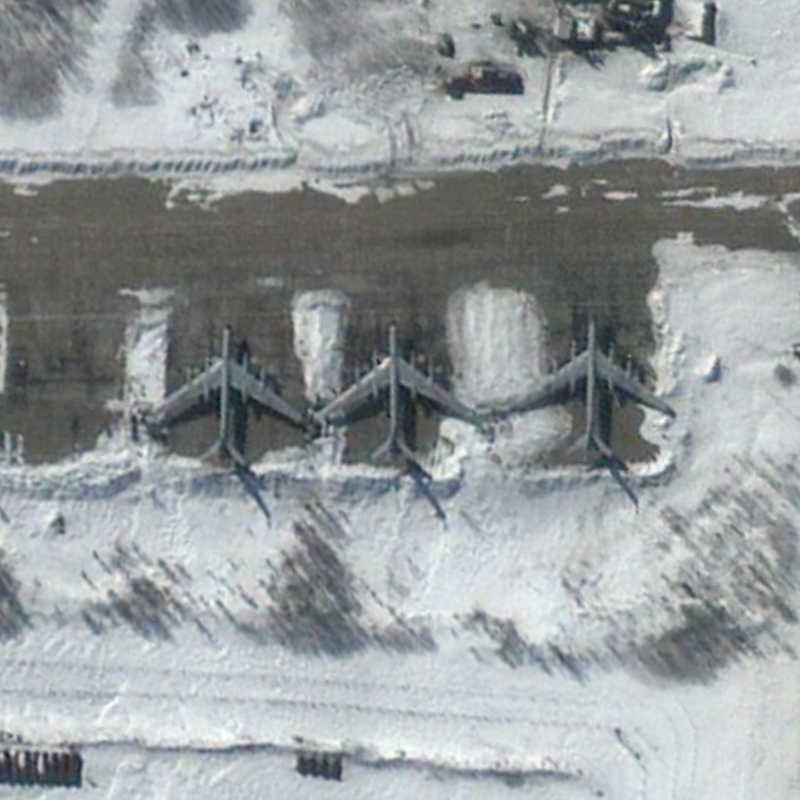A17: (313, 312, 480, 471), (508, 309, 677, 466), (149, 320, 310, 472)
